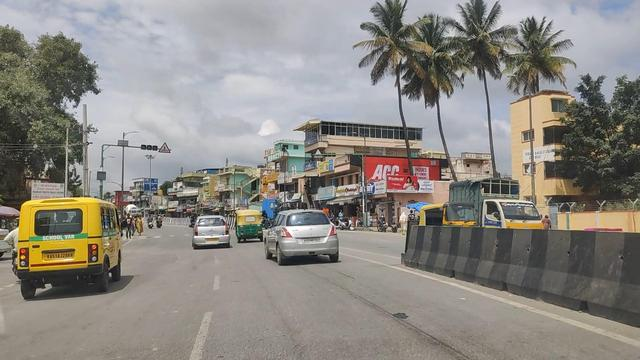LMV: (10, 176, 134, 314), (267, 194, 351, 270), (230, 195, 280, 252), (187, 201, 237, 257)
